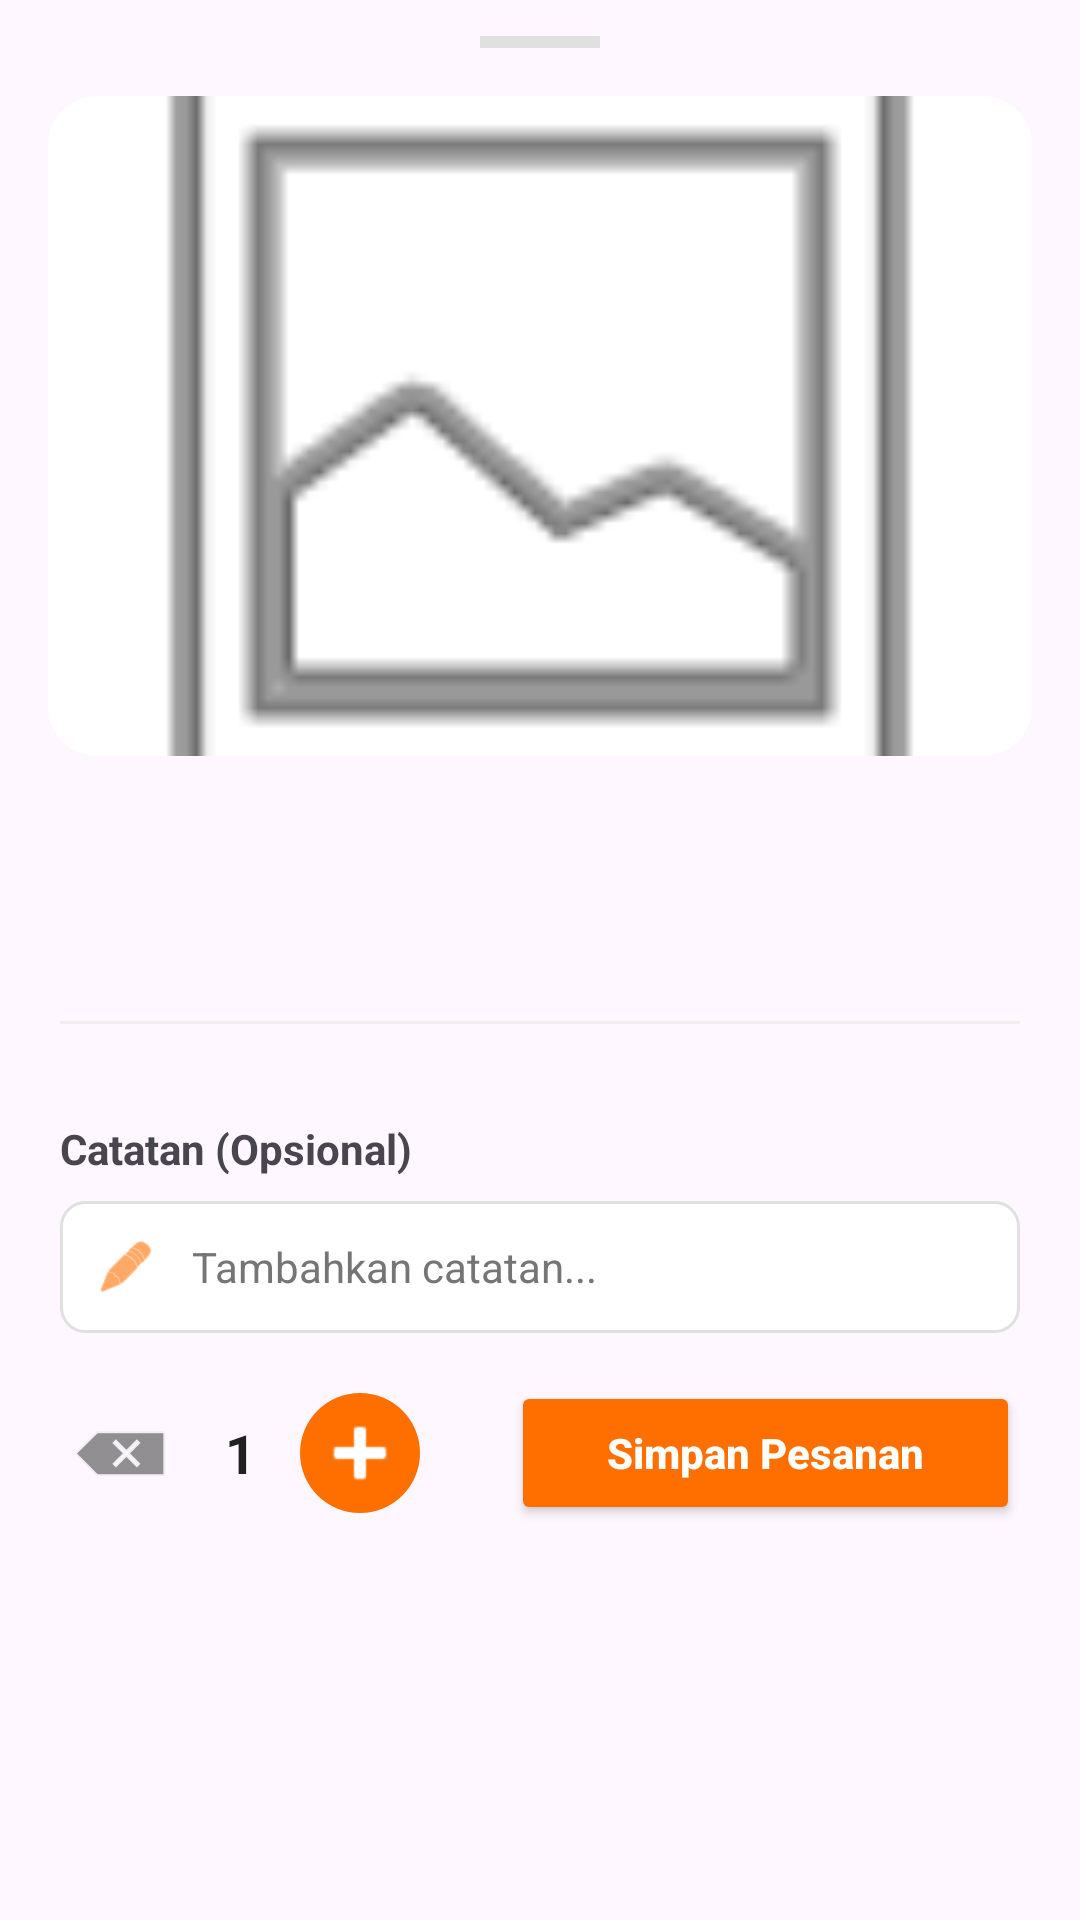

Icons on this 1080*1920 Android screen, each with the point to tap as [x,y]:
add: [360,1453]
delete: [120,1454]
edit: [125,1266]
